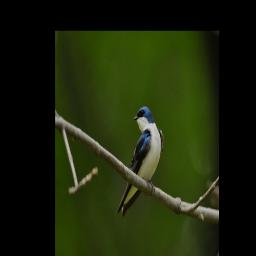Swallow: (116, 105, 164, 218)
